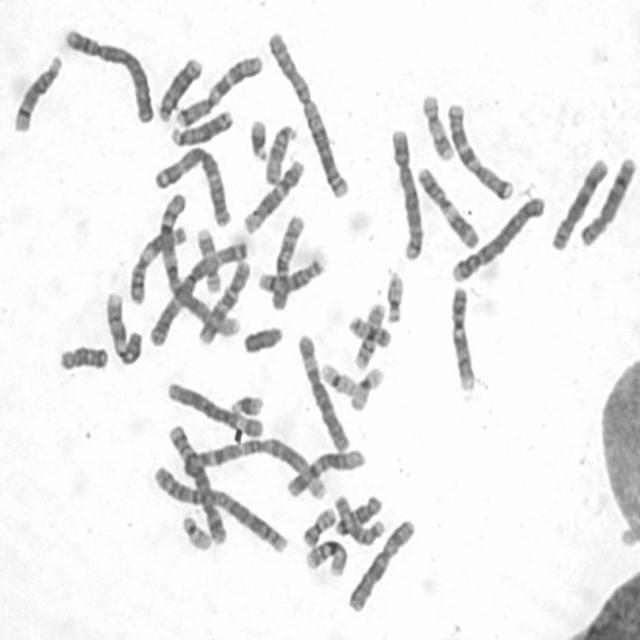A1: (152, 186, 242, 344), (168, 430, 330, 501)
A2: (262, 23, 352, 200), (146, 459, 289, 555)
A3: (143, 230, 250, 348), (148, 139, 234, 228)
B4: (58, 20, 156, 126), (447, 189, 548, 284)
B5: (163, 417, 230, 545), (385, 120, 426, 262)
C10: (194, 253, 251, 345), (266, 207, 306, 312)
C11: (412, 160, 482, 251), (123, 218, 190, 306)
C12: (238, 152, 306, 235), (280, 442, 366, 499)
C6: (292, 326, 352, 453), (162, 376, 266, 439)
C7: (442, 96, 516, 202), (168, 48, 265, 128)
C8: (545, 150, 611, 253), (574, 150, 638, 248)
C9: (445, 279, 478, 393), (100, 285, 144, 366)
D13: (152, 50, 204, 123), (167, 102, 234, 148)
D14: (8, 47, 64, 134), (254, 247, 328, 296)
D15: (329, 488, 386, 546), (260, 118, 299, 186)
E16: (349, 295, 388, 372), (301, 533, 348, 578)
E17: (417, 87, 455, 162), (192, 221, 223, 294)
E18: (330, 488, 386, 544), (53, 338, 110, 373)
F19: (344, 359, 386, 413), (316, 355, 359, 398)
F20: (344, 308, 394, 349), (297, 500, 338, 547)
G21: (244, 111, 270, 162), (225, 387, 265, 417)
G22: (176, 507, 214, 552), (381, 264, 406, 326)
X: (343, 513, 417, 614)
Y: (238, 319, 284, 355)
